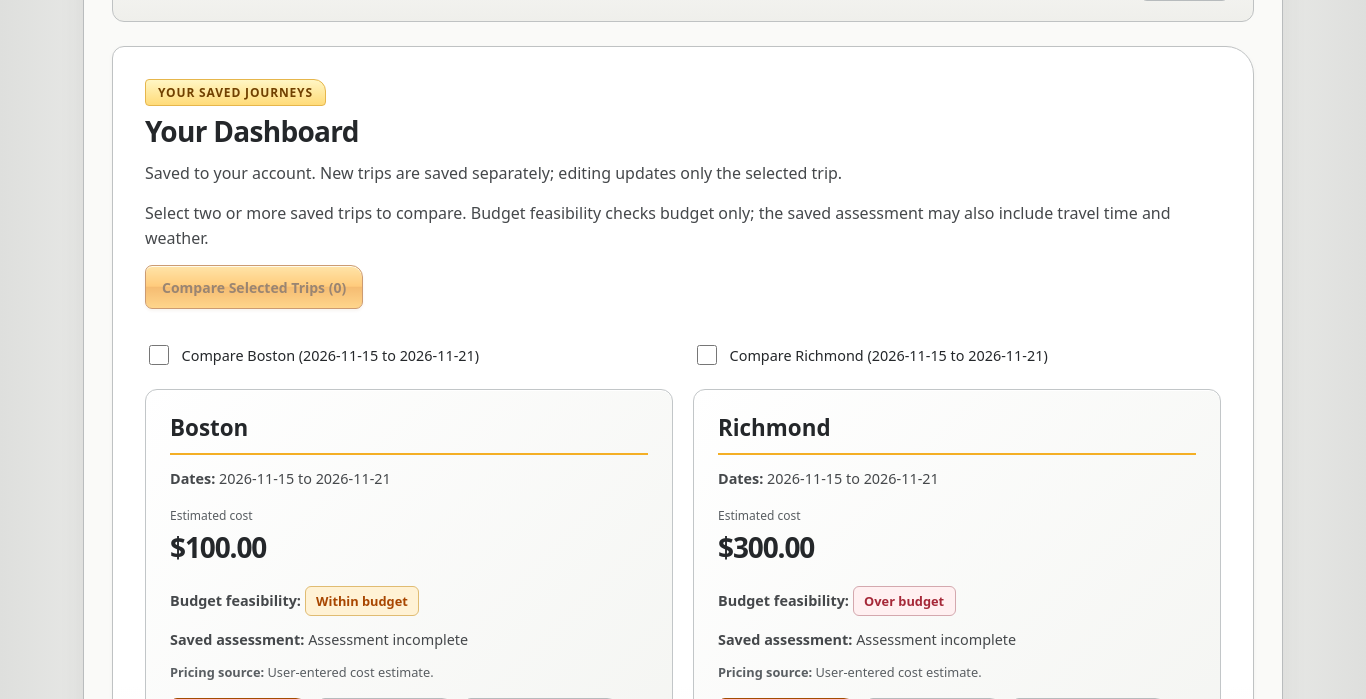
Test: multiple saved trips dashboard › hides the previous account cards and comparison on account switch
(page scrolled)
Click the checkbox labelled "Compare Boston (2026-11-15 to 2026-11-21)".
click(159, 355)  # box [149,345,169,365]
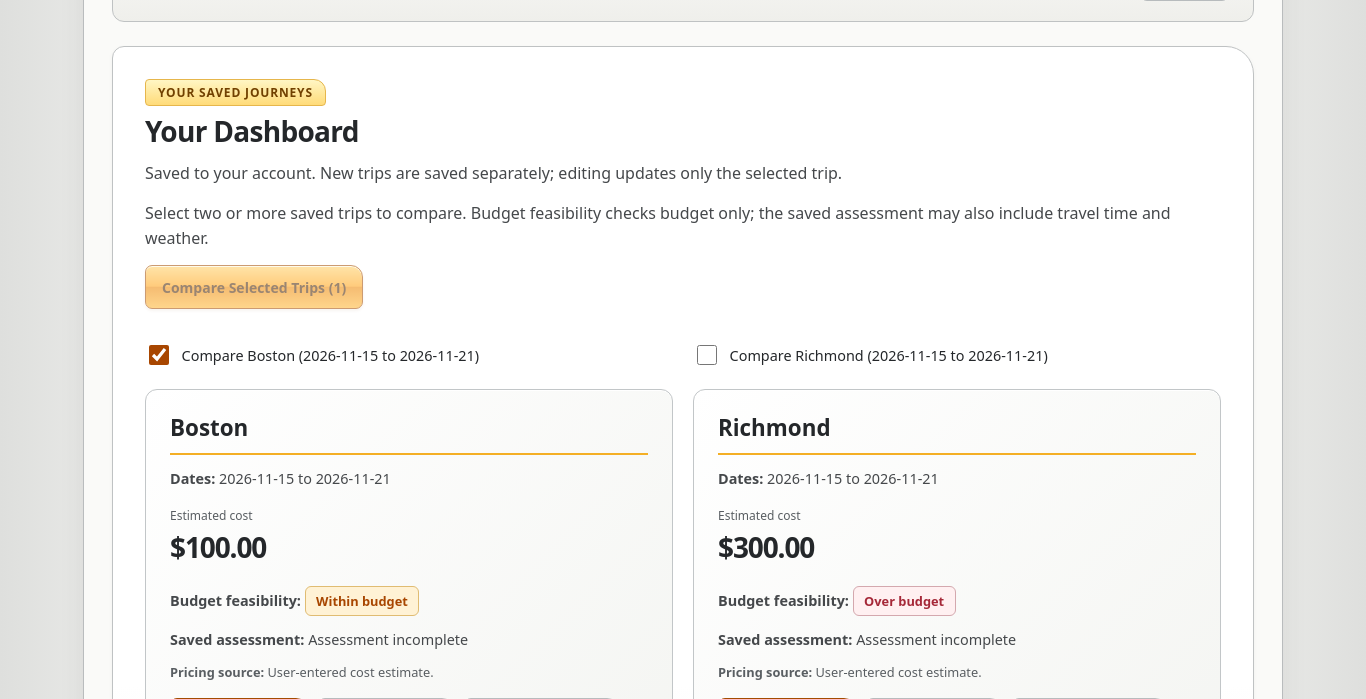
Click the checkbox labelled "Compare Richmond (2026-11-15 to 2026-11-21)".
click(707, 355)  # box [697,345,717,365]
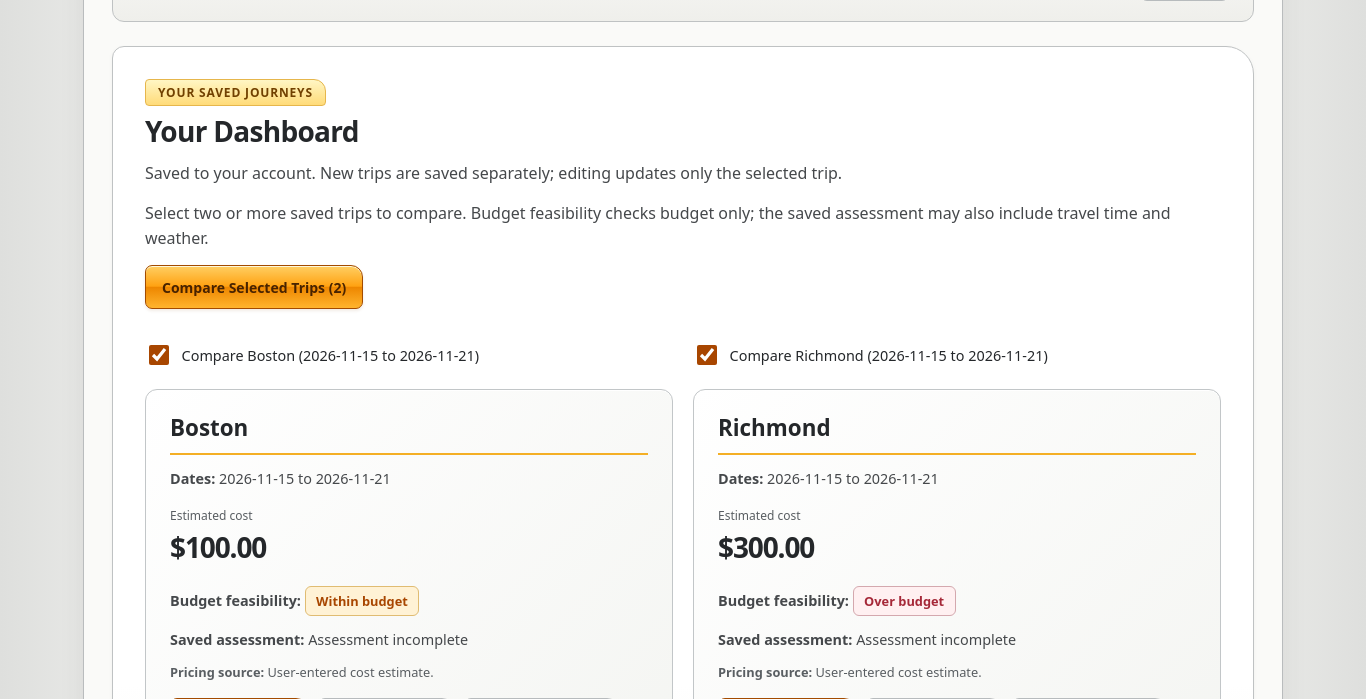
Click the button "Compare Selected Trips (2)".
click(254, 287)  # box [145,265,363,309]
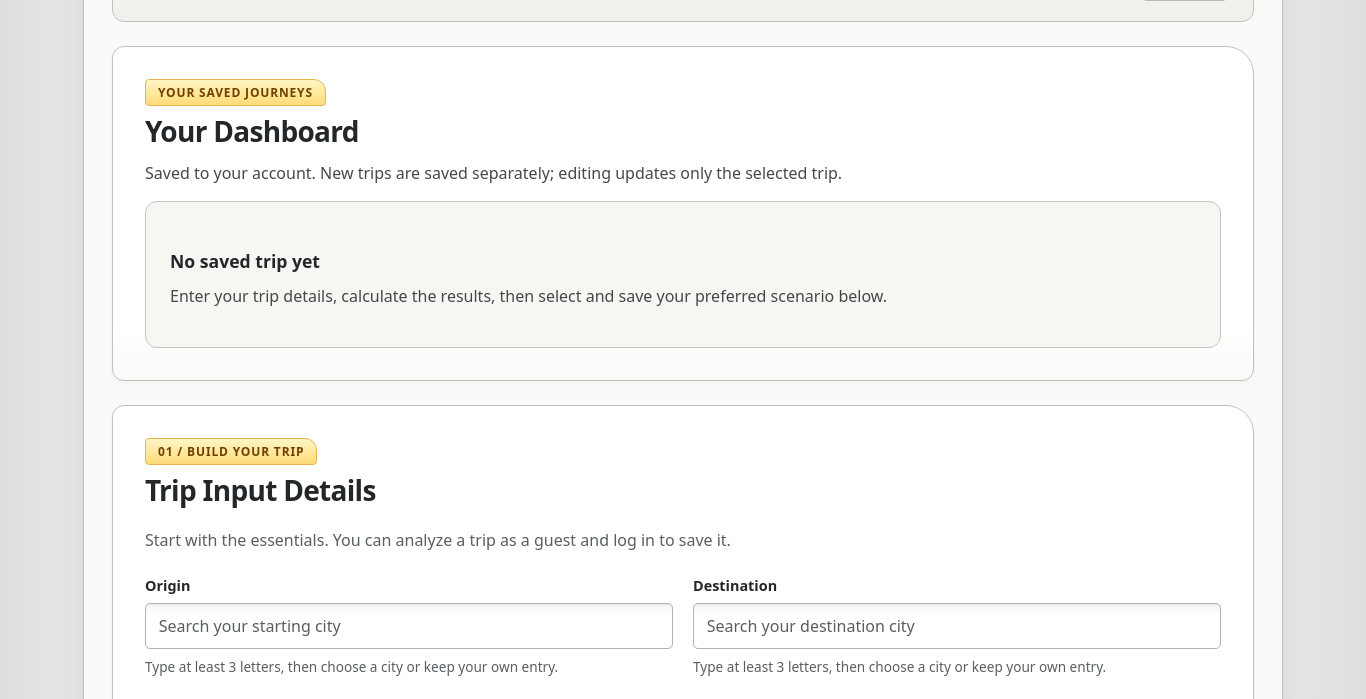
Check: the text "Richmond" is gone
Check: the text "No saved trip yet" is shown, box [170,249,320,273]
